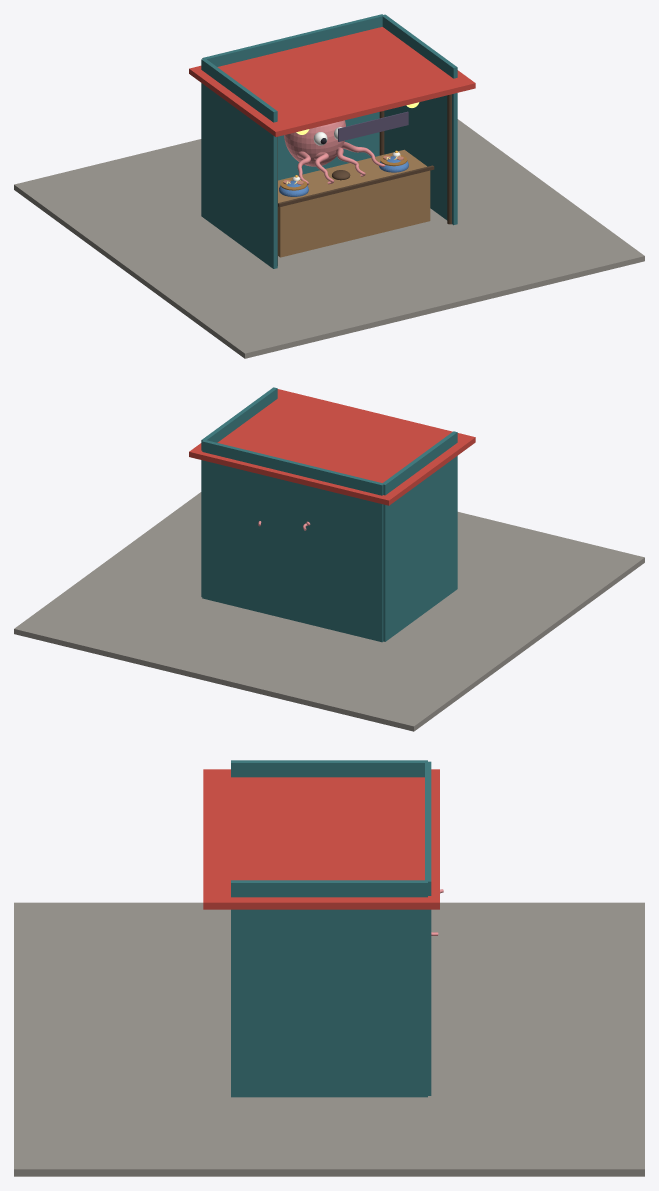
File: octopus_ramen_booth.glb
The picture shows the model from 3 angles, top to bottom: view 1: azimuth 30°, elevation 25°; view 2: azimuth 150°, elevation 25°; view 3: azimuth 270°, elevation 25°; orthographic projection. The views are drawn at different scales.
Visible parts, largest first — view 1: Floor, Awning, Side Wall L, Counter, Side Wall R, Back Wall, Octopus Mantle, Noren, Counter Lip, Post 1.75-1.15; view 2: Floor, Back Wall, Awning, Side Wall L, Side Wall R; view 3: Floor, Side Wall R, Awning, Side Wall L, Back Wall.
Boxes of the visible parts, x1,y1,x2,y2 form: Floor: (14,119,644,358); Awning: (189,27,475,136); Side Wall L: (201,58,277,268); Counter: (278,149,430,257); Side Wall R: (382,14,457,225); Back Wall: (202,14,383,180); Octopus Mantle: (284,120,345,166); Noren: (338,111,408,141); Counter Lip: (278,165,434,207); Post 1.75-1.15: (447,94,451,224); Floor: (14,492,644,731); Back Wall: (202,439,383,642); Awning: (189,389,475,505); Side Wall L: (382,431,457,641); Side Wall R: (201,387,277,596); Floor: (14,902,644,1176); Side Wall R: (231,880,427,1097); Awning: (203,769,439,909); Side Wall L: (231,760,427,777); Back Wall: (425,761,431,1095).
Bounding box in the file's own units: 8 × 3.1 × 8.
